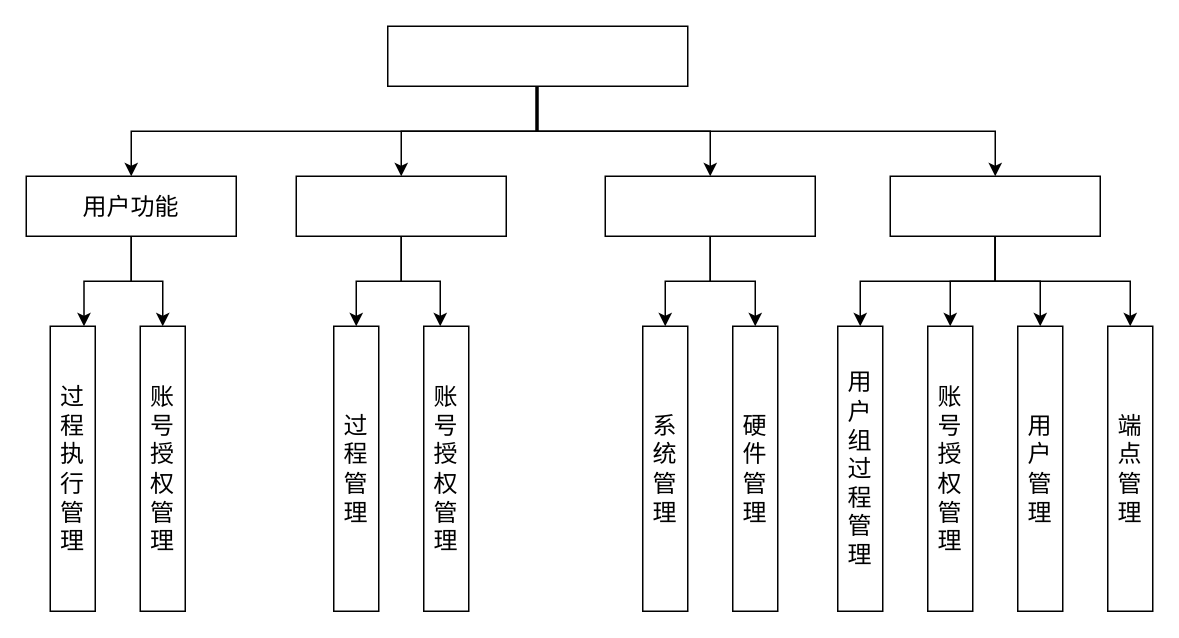
This 1179x638 diagram has some shape labels left out. The shapes that lost their labels are listed below. From the top down, each one's centre as x and y in pixels, then its label:
At [537,55]: "远程过程调用与注入系统".
At [400,205]: "开发者功能".
At [709,205]: "系统功能".
At [994,205]: "管理员功能".
